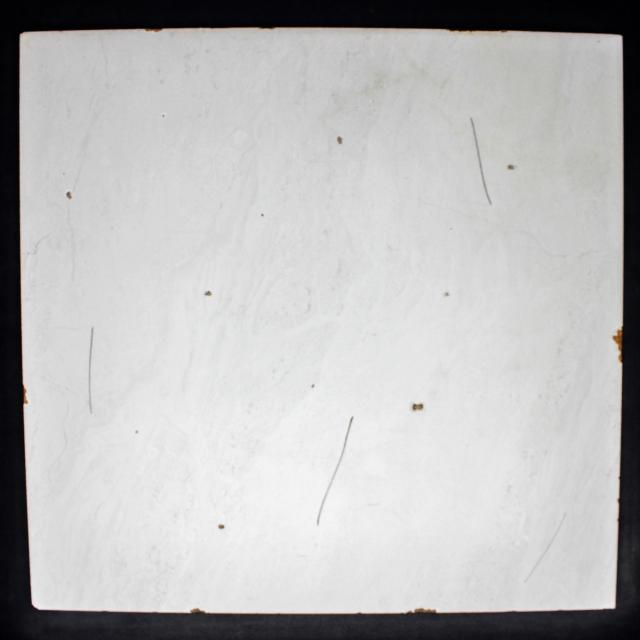edge-chipping: (610, 325, 624, 364), (412, 606, 438, 614), (445, 28, 476, 34), (22, 384, 30, 406), (142, 27, 164, 33), (189, 607, 207, 614), (257, 26, 278, 30), (31, 604, 39, 610), (499, 29, 510, 33)
hole: (506, 162, 517, 173), (336, 134, 344, 147), (412, 403, 424, 411), (65, 190, 73, 200), (203, 290, 213, 298), (442, 290, 452, 298), (217, 523, 226, 530), (259, 212, 265, 218), (310, 383, 316, 389), (161, 113, 165, 118)
line: (314, 413, 357, 530), (521, 509, 569, 586), (466, 114, 496, 207), (87, 325, 95, 416)
